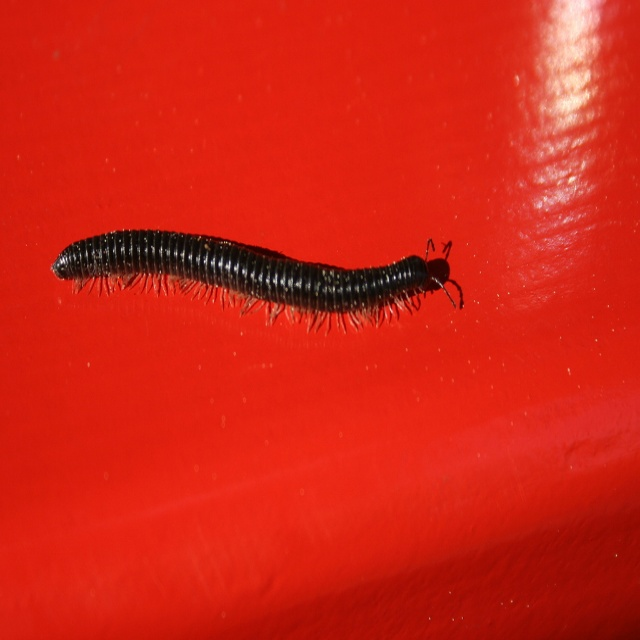Centipede: (40, 210, 443, 337)
